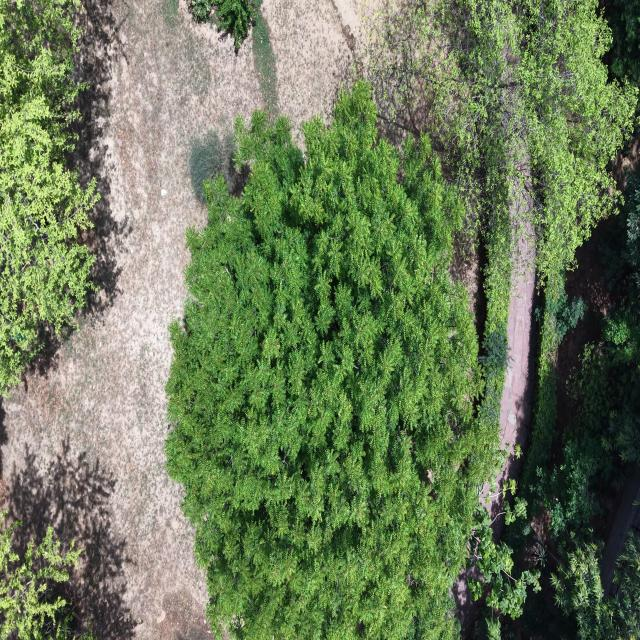DRY_AREA: (2, 0, 264, 639), (481, 192, 535, 538), (488, 224, 535, 517), (497, 233, 535, 489), (498, 224, 535, 486)
VEGETATION_TREE: (166, 0, 639, 639), (166, 82, 495, 639), (168, 96, 457, 637), (368, 0, 637, 559), (368, 0, 636, 480), (368, 0, 637, 346), (368, 0, 637, 281), (367, 3, 513, 442), (523, 175, 639, 639), (523, 176, 639, 639), (523, 177, 638, 538), (528, 176, 639, 534), (0, 0, 98, 391), (0, 0, 98, 390), (503, 272, 605, 638), (551, 174, 639, 553), (518, 0, 637, 280), (462, 390, 540, 639), (575, 174, 639, 464), (523, 271, 585, 487), (0, 523, 94, 639), (468, 505, 540, 639), (552, 533, 639, 639), (190, 0, 261, 52), (609, 532, 639, 638), (189, 130, 233, 202), (604, 0, 639, 85), (252, 13, 278, 117), (214, 0, 261, 51), (189, 0, 212, 22)
